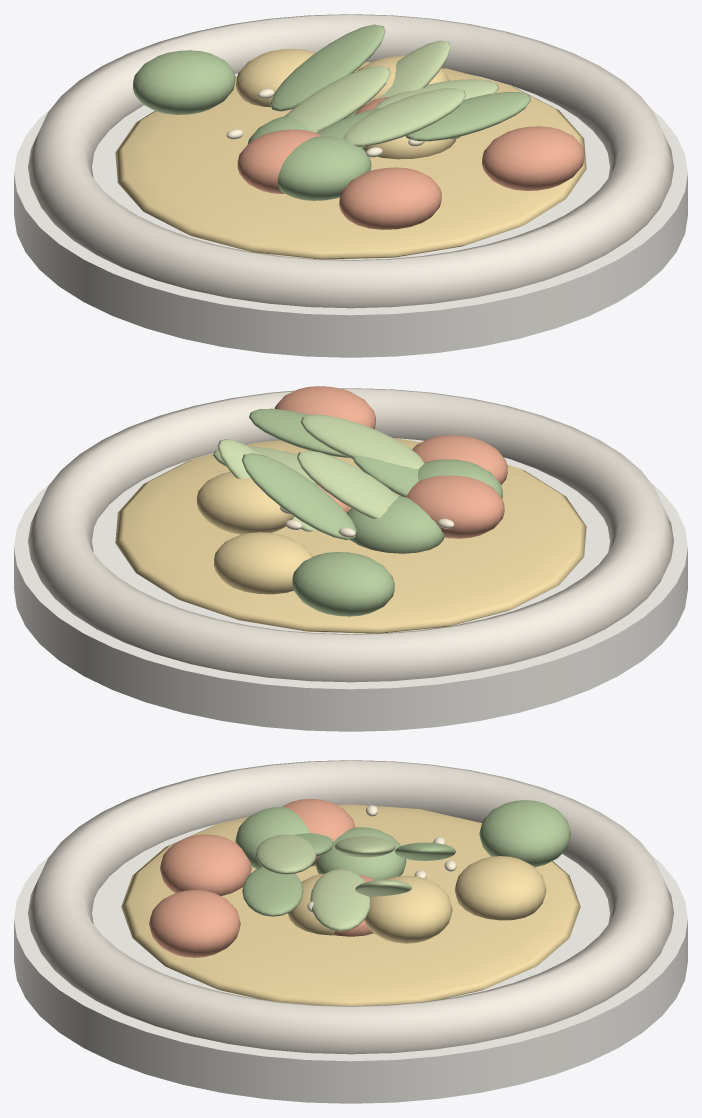
File: mise-plated-dish-animated.glb
3 views of the same model, one above another, from view 1: azimuth 30°, elevation 25°; view 2: azimuth 150°, elevation 25°; view 3: azimuth 270°, elevation 25° (orthographic).
Visible parts, largest first — view 1: Plate rim, Ceramic plate, Sauce bed, Seasonal bite 7, Seasonal bite 3, Seasonal bite 6, Seasonal bite 1, Basil leaf 5, Basil leaf 2, Basil leaf 4, Basil leaf 1, Seasonal bite 9 (+7 smaller); view 2: Plate rim, Ceramic plate, Sauce bed, Seasonal bite 7, Seasonal bite 2, Seasonal bite 9, Basil leaf 5, Seasonal bite 5, Seasonal bite 4, Basil leaf 4, Basil leaf 2, Seasonal bite 3 (+6 smaller); view 3: Plate rim, Ceramic plate, Sauce bed, Seasonal bite 3, Seasonal bite 2, Seasonal bite 7, Seasonal bite 6, Seasonal bite 5, Basil leaf 0, Seasonal bite 4, Basil leaf 1, Seasonal bite 1 (+6 smaller).
Boxes of the visible parts, bbox=[...] form: Plate rim: bbox=[28, 14, 673, 308]; Ceramic plate: bbox=[14, 73, 687, 357]; Sauce bed: bbox=[115, 62, 586, 259]; Seasonal bite 7: bbox=[133, 50, 235, 114]; Seasonal bite 3: bbox=[482, 126, 584, 190]; Seasonal bite 6: bbox=[339, 167, 441, 229]; Seasonal bite 1: bbox=[277, 136, 371, 200]; Basil leaf 5: bbox=[270, 24, 385, 111]; Basil leaf 2: bbox=[343, 88, 465, 146]; Basil leaf 4: bbox=[284, 66, 390, 131]; Basil leaf 1: bbox=[405, 92, 530, 141]; Seasonal bite 9: bbox=[237, 129, 322, 193]; Plate rim: bbox=[28, 388, 673, 682]; Ceramic plate: bbox=[14, 438, 687, 731]; Sauce bed: bbox=[115, 438, 586, 633]; Seasonal bite 7: bbox=[292, 552, 394, 616]; Seasonal bite 2: bbox=[214, 532, 313, 594]; Seasonal bite 9: bbox=[405, 475, 504, 538]; Basil leaf 5: bbox=[242, 453, 357, 539]; Seasonal bite 5: bbox=[196, 472, 294, 534]; Seasonal bite 4: bbox=[347, 496, 444, 553]; Basil leaf 4: bbox=[297, 450, 398, 518]; Basil leaf 2: bbox=[300, 414, 424, 468]; Seasonal bite 3: bbox=[274, 386, 375, 429]; Plate rim: bbox=[28, 760, 673, 1054]; Ceramic plate: bbox=[14, 823, 687, 1103]; Sauce bed: bbox=[121, 804, 580, 1006]; Seasonal bite 3: bbox=[149, 890, 240, 957]; Seasonal bite 2: bbox=[454, 856, 546, 920]; Seasonal bite 7: bbox=[479, 800, 570, 867]; Seasonal bite 6: bbox=[160, 834, 251, 895]; Seasonal bite 5: bbox=[364, 875, 452, 943]; Basil leaf 0: bbox=[310, 869, 370, 931]; Seasonal bite 4: bbox=[315, 827, 406, 879]; Basil leaf 1: bbox=[242, 867, 303, 916]; Seasonal bite 1: bbox=[235, 807, 316, 868].
Size of the model in its own units: 1.32 by 0.315 by 1.32.
